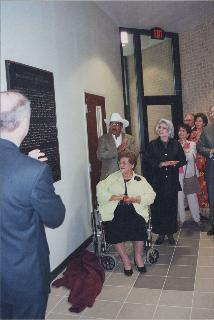person - v3 P: (1, 91, 65, 319), (97, 151, 155, 275), (145, 119, 186, 244), (97, 113, 139, 180), (178, 124, 199, 227), (197, 123, 213, 235), (196, 152, 209, 221), (185, 114, 196, 130)
